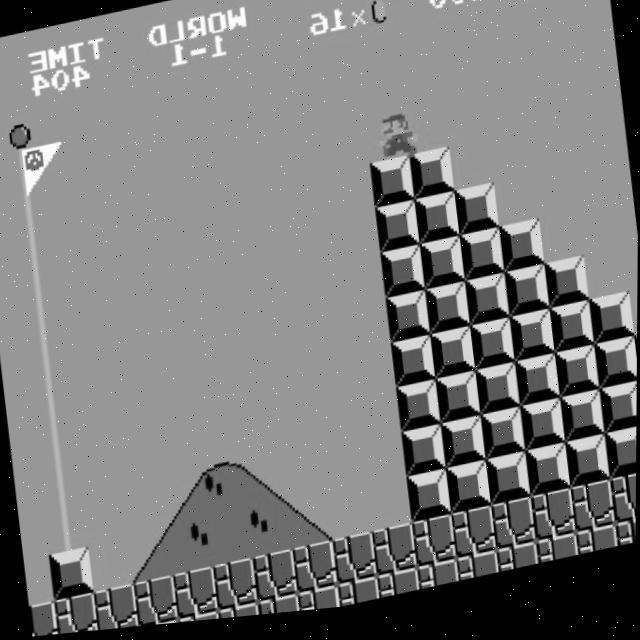11- little_mario: (373, 114, 422, 172)
17- undestructible_block: (252, 553, 299, 608), (411, 522, 458, 576), (371, 530, 418, 584), (133, 576, 180, 630), (570, 490, 616, 545), (531, 498, 577, 553), (491, 506, 537, 561), (292, 545, 338, 600), (213, 561, 259, 616), (173, 569, 219, 624), (451, 514, 497, 568), (332, 538, 378, 592), (93, 584, 140, 633), (53, 592, 100, 636), (610, 484, 637, 537), (576, 535, 619, 567), (377, 574, 420, 606), (337, 582, 380, 614), (496, 551, 540, 582), (456, 559, 500, 590), (536, 543, 579, 574), (417, 567, 460, 598), (297, 590, 340, 617), (29, 600, 60, 637), (257, 598, 300, 620), (218, 606, 261, 623), (615, 529, 637, 558), (178, 614, 221, 626)
7- goal_pole: (43, 502, 90, 557), (0, 143, 47, 197), (11, 233, 58, 287), (32, 413, 79, 467), (17, 278, 63, 333), (6, 188, 52, 242), (22, 323, 68, 377), (27, 368, 73, 421), (38, 458, 84, 511), (0, 98, 41, 152)
9- hard_block: (453, 191, 500, 246), (485, 460, 532, 515), (374, 207, 421, 262), (554, 355, 601, 409), (514, 363, 561, 417), (525, 453, 572, 507), (464, 281, 511, 335), (424, 289, 471, 343), (400, 432, 447, 486), (48, 548, 95, 602), (589, 302, 635, 357), (549, 310, 595, 365), (560, 400, 606, 455), (499, 228, 545, 283), (509, 318, 555, 373), (459, 236, 505, 291), (414, 199, 460, 254), (419, 244, 465, 299), (446, 468, 492, 523), (543, 266, 590, 319), (435, 379, 482, 432), (395, 387, 442, 440), (565, 445, 611, 499), (504, 273, 550, 327), (520, 408, 566, 462), (470, 326, 516, 380), (475, 371, 521, 425), (480, 416, 526, 470), (409, 154, 455, 208), (430, 334, 476, 388), (441, 424, 487, 478), (369, 162, 415, 216), (380, 252, 426, 306), (385, 297, 431, 351), (390, 342, 436, 396), (406, 477, 452, 531), (593, 348, 638, 401), (599, 393, 637, 446), (604, 438, 637, 491)
